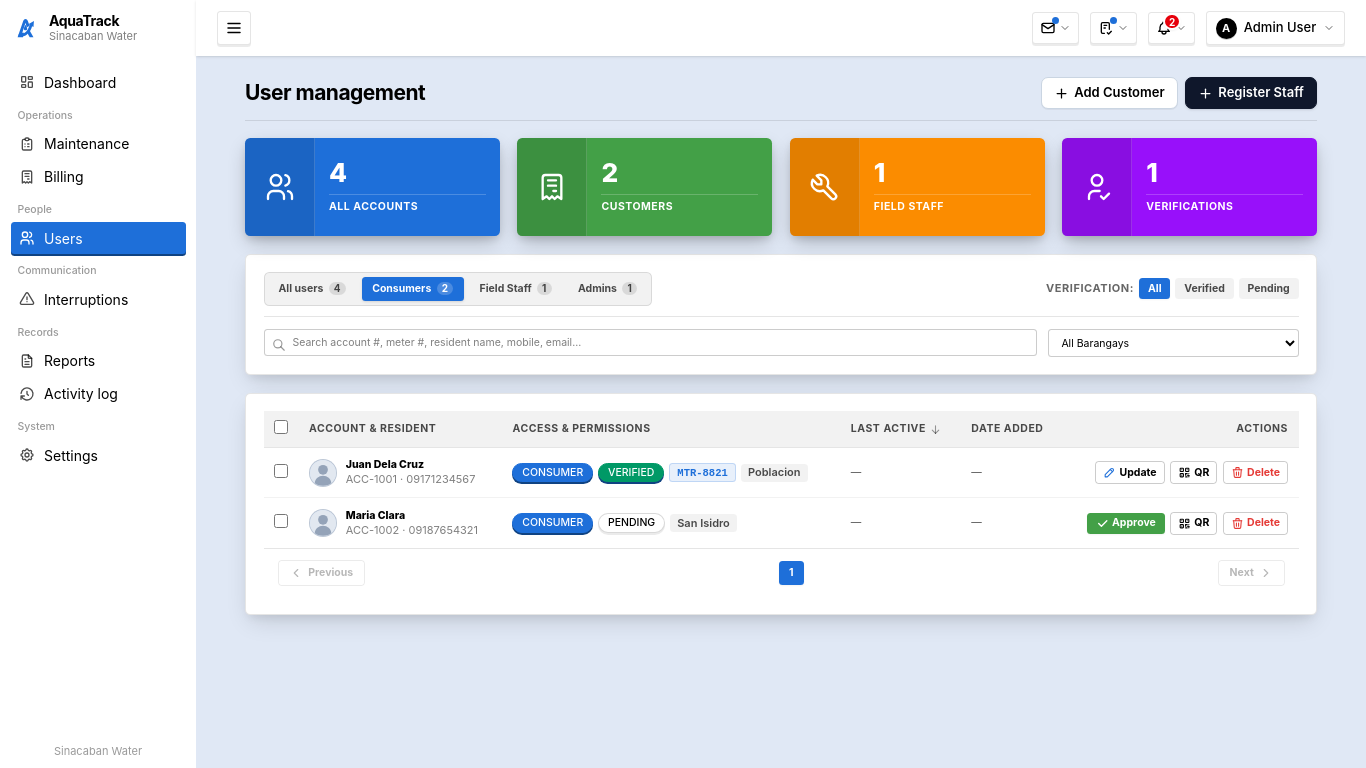
Test case: AdminUsersView (Consolidated Customers + Staff) › filters customers by verification status
This screenshot has width=1366, height=768.
Check: the text "Juan Dela Cruz" is shown, box x1=346 y1=458 x2=424 y2=471
Click the button "pending": (1269, 289) x1=1239 y1=278 x2=1298 y2=299
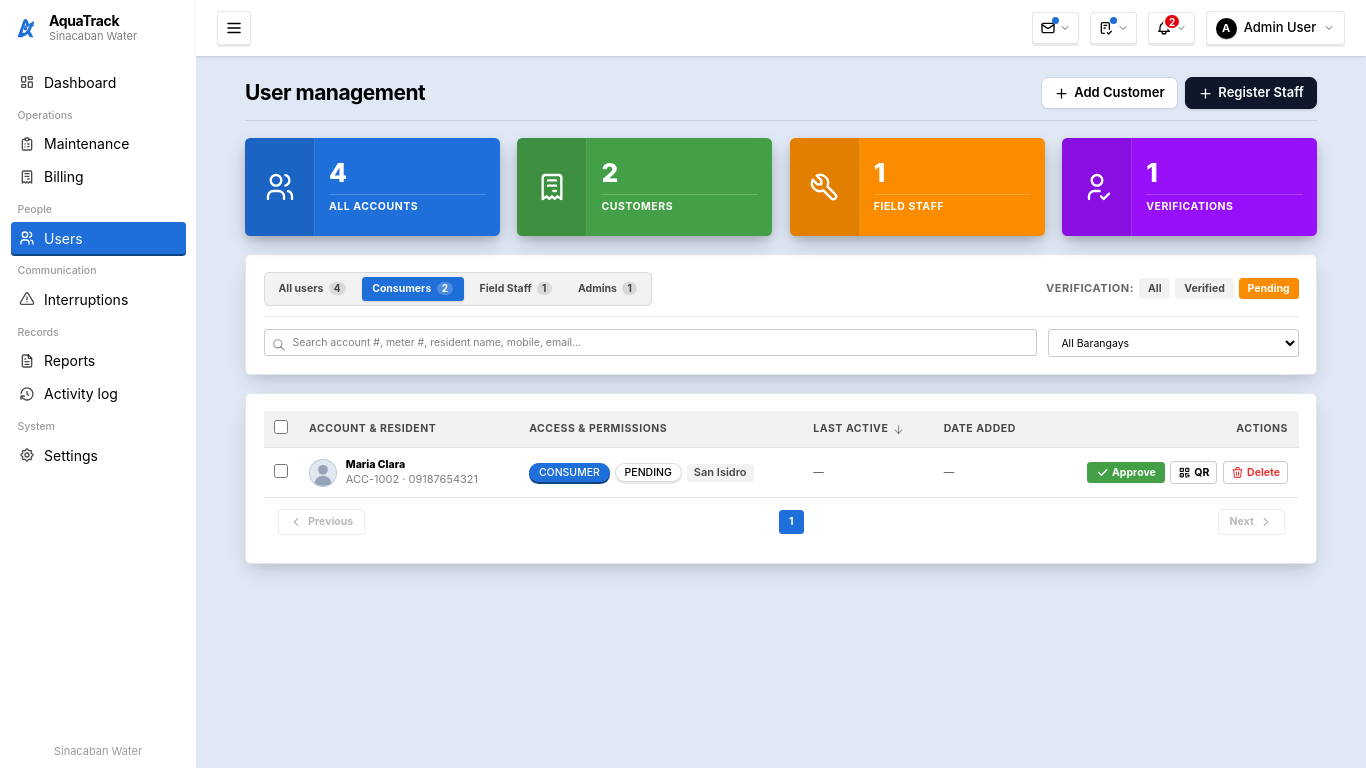
Check: the text "Maria Clara" is shown, box x1=346 y1=458 x2=405 y2=471
Check: the text "Juan Dela Cruz" is gone
